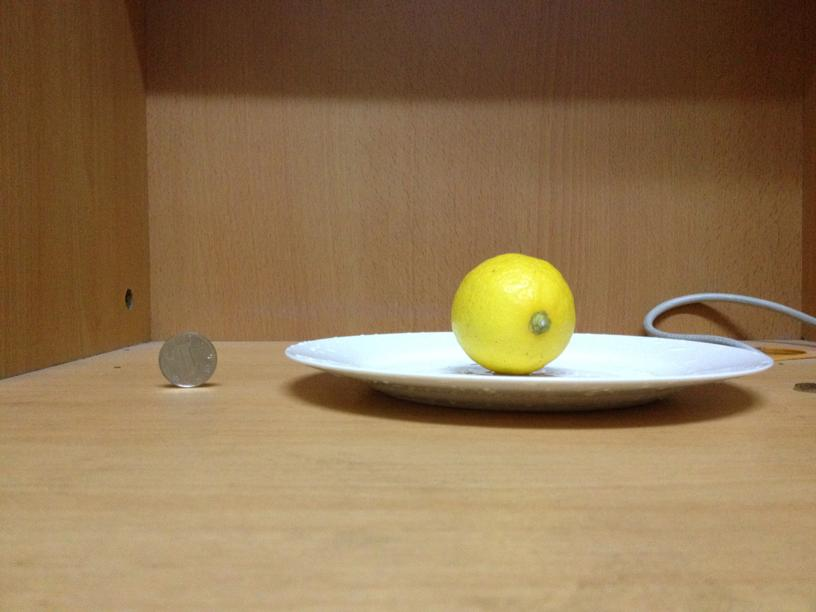coin: (159, 330, 216, 386)
lemon: (451, 250, 574, 371)
